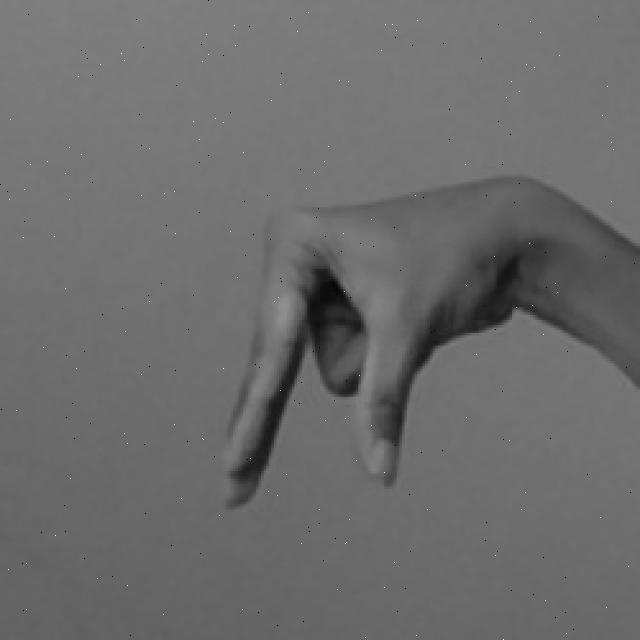Q: (212, 164, 640, 526)
